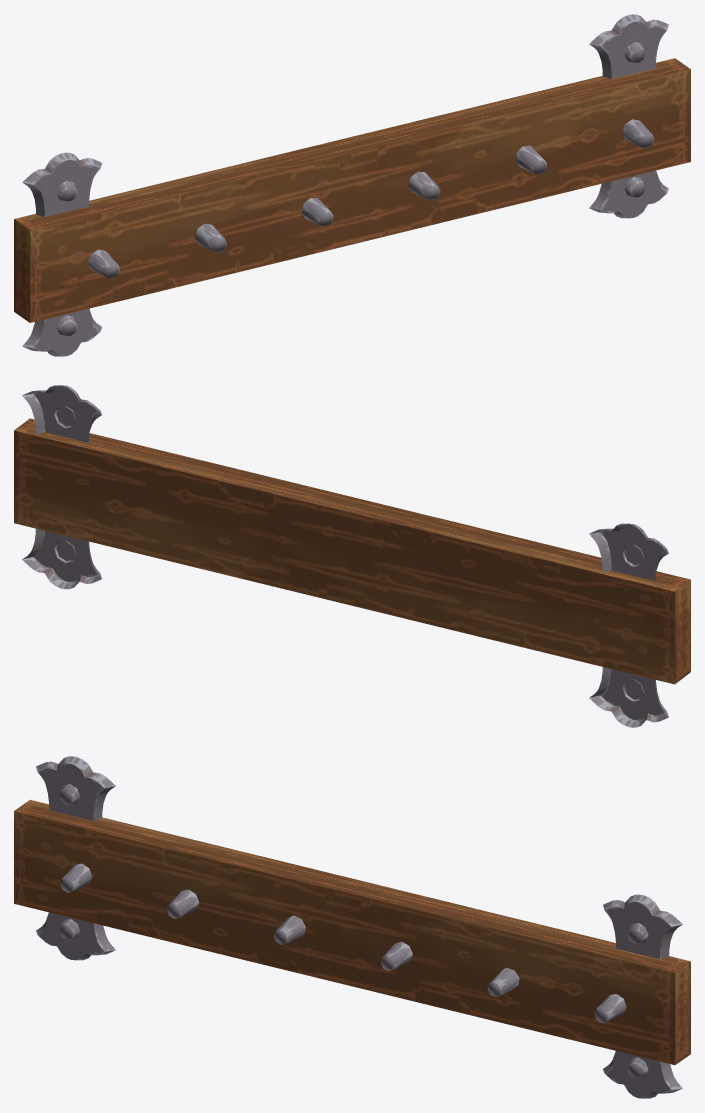
Rendered from Peg_Rack.gltf.
3 renders of one model, top to bottom at view 1: azimuth 30°, elevation 25°; view 2: azimuth 150°, elevation 25°; view 3: azimuth 330°, elevation 25°, orthographic.
Parts seen in each view (by area): view 1: Peg_Rack; view 2: Peg_Rack; view 3: Peg_Rack.
Boxes of the visible parts, left/top/right/bottom form: Peg_Rack: left=14, top=14, right=690, bottom=356; Peg_Rack: left=14, top=385, right=690, bottom=727; Peg_Rack: left=14, top=756, right=690, bottom=1098.
Size of the model in its own units: 1.18 by 0.3479 by 0.0957.
Materials: 2 (2 with a texture image).
